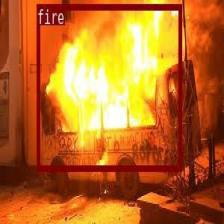fire: (36, 3, 182, 170)
